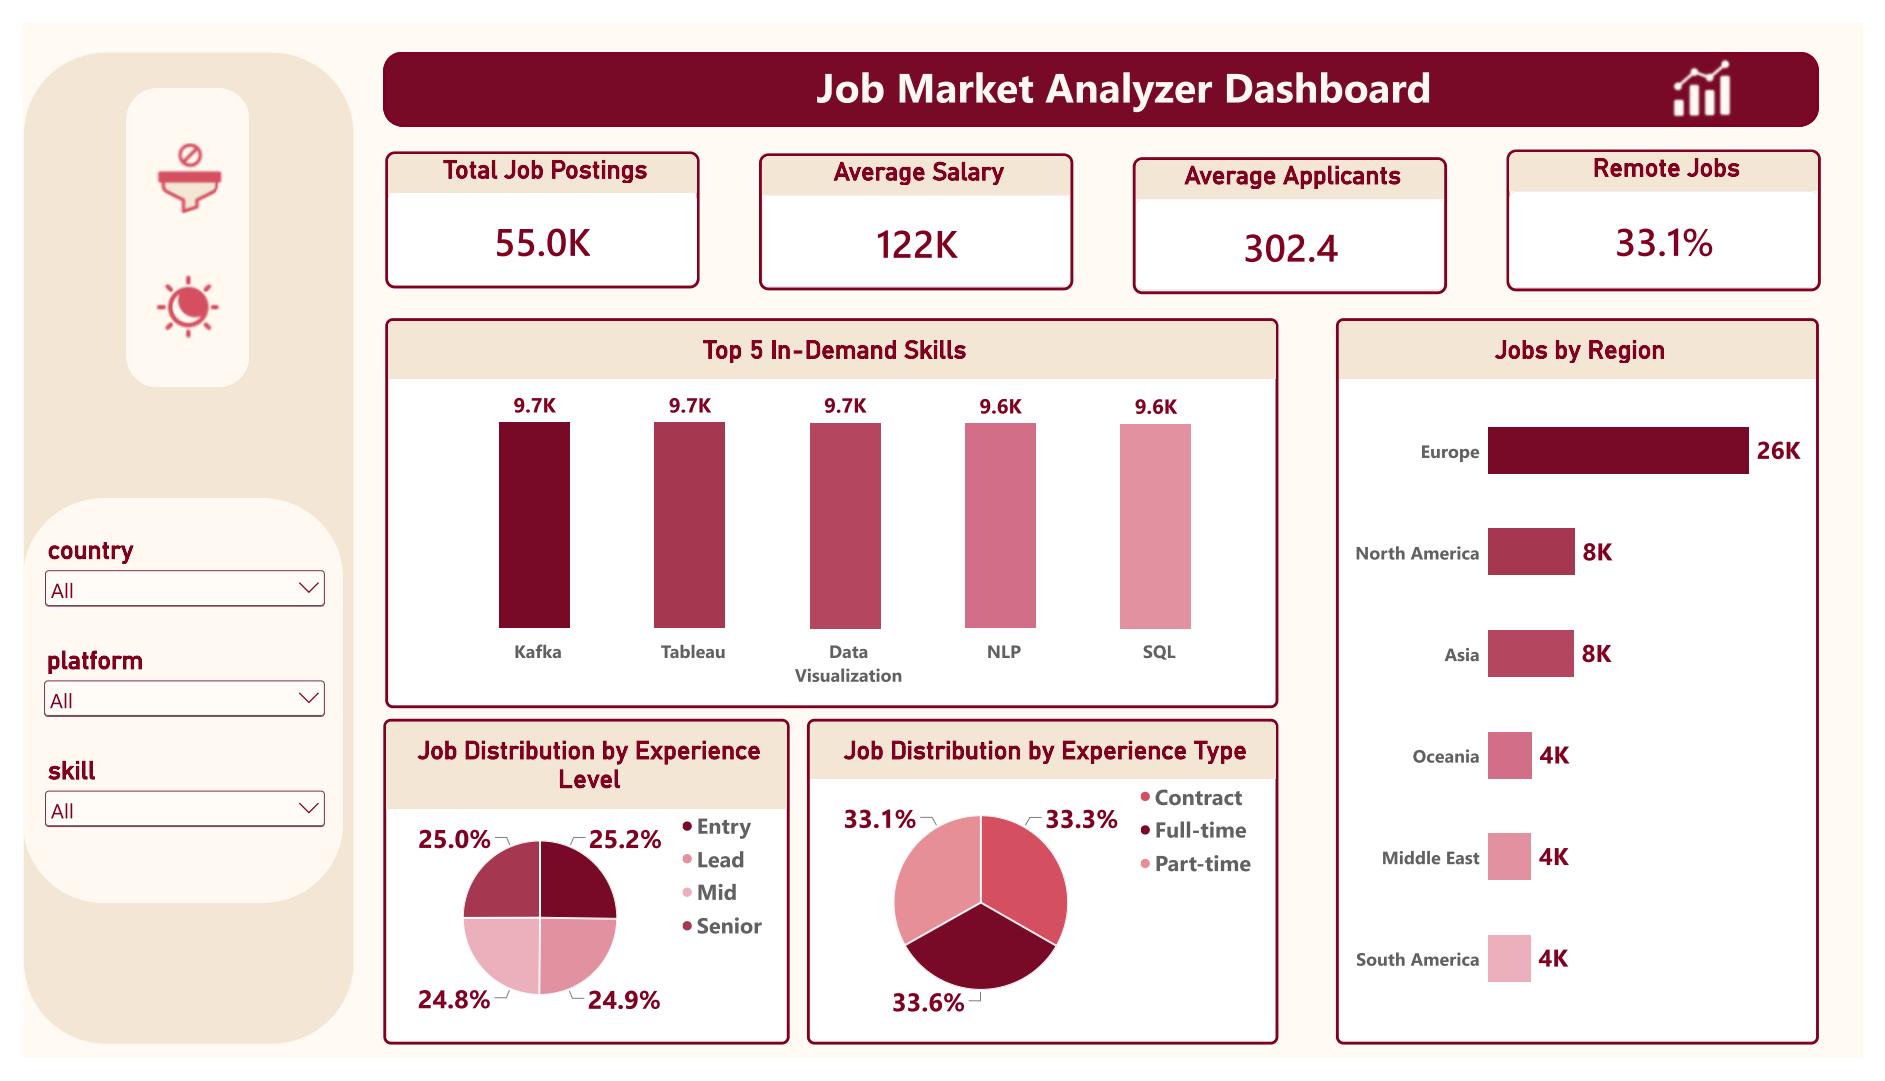

This screenshot's page, from the dashboard's own definition file:
{"tool":"powerbi","page":{"name":"LightMode","canvas":[1920,1080],"ordinal":1},"visuals":[{"type":"shape","box":[0,30,346,1036],"z":0,"group":"g4"},{"type":"shape","box":[376,30,1498.4,77.8],"z":0,"group":"g3"},{"type":"shape","box":[108,68,128,312],"z":0,"group":"g2"},{"type":"shape","box":[0,496,333.7,421.9],"z":0,"group":"g1"},{"type":"actionButton","box":[798.9,31.4,700.3,63.3],"z":1000,"group":"g3"},{"type":"group","id":"g1","title":"Group 1","box":[0,496,333.7,421.9],"z":1000,"group":"g4"},{"type":"slicer","fields":{"Values":["dim_country.country"]},"box":[18,534,302.2,99.4],"z":1000,"group":"g1"},{"type":"actionButton","box":[1711.6,33.2,80,72.5],"z":2000,"group":"g3"},{"type":"group","id":"g2","title":"Group 2","box":[108,68,128,312],"z":2000,"group":"g4"},{"type":"cardVisual","title":"Total Job Postings","fields":{"Data":["Count(bridge_job_skills 1(in) (1).job_id)"]},"box":[378,134,327.5,143],"z":2000},{"type":"slicer","fields":{"Values":["dim_platform.platform"]},"box":[17.5,649,302.2,99.4],"z":2000,"group":"g1"},{"type":"actionButton","title":"dark_mode","box":[108,252,128,88],"z":3000,"group":"g4"},{"type":"slicer","fields":{"Values":["dim_country.country"]},"box":[566,540,302.2,99.4],"z":3000},{"type":"slicer","fields":{"Values":["dim_skill.skill"]},"box":[18,764,302.2,99.4],"z":3000,"group":"g1"},{"type":"cardVisual","title":"Average Applicants","fields":{"Data":["Avg(fact_job_postings.applicants_estimate)"]},"box":[1158,139.9,327.5,143],"z":4000},{"type":"cardVisual","title":"Average Salary","fields":{"Data":["Avg(fact_job_postings 1(in) (5).average_salary_usd)"]},"box":[768,136.3,327.5,143],"z":5000},{"type":"cardVisual","title":"Remote Jobs","fields":{"Data":["bridge_job_skills 1(in) (1).% Remote Jobs"]},"box":[1548,132,327.5,148.4],"z":6000},{"type":"group","id":"g3","title":"Group 4","box":[376,30,1498.4,77.8],"z":7000},{"type":"barChart","title":"Jobs by Region","fields":{"Category":["dim_country(in).region"],"Y":["CountNonNull(fact_job_postings 1(in) (5).job_id)"]},"box":[1370,308,504,758],"z":8000},{"type":"pieChart","title":"Job Distribution by Experience Level","fields":{"Category":["fact_job_postings.experience_level"],"Y":["Count(fact_job_postings 1(in) (5).job_id)"]},"box":[376,726,424,340],"z":9000},{"type":"clusteredColumnChart","title":"Top 5 In-Demand Skills","fields":{"Category":["dim_skill.skill"],"Y":["CountNonNull(bridge_job_skills.skill_id )"]},"box":[378.2,307.6,932,407.2],"z":10000},{"type":"pieChart","title":"Job Distribution by Experience Type","fields":{"Category":["fact_job_postings.employment_type"],"Y":["Count(fact_job_postings 1(in) (5).job_id)"]},"box":[818,726,492,340],"z":11000},{"type":"group","id":"g4","title":"Group 3","box":[0,30,346,1036],"z":12000},{"type":"actionButton","title":"unfilter_light","box":[110,118,128,88],"z":13000}]}

Visuals, with their boxes in screenshot pixels (x1, y1, x2, y2), scaled from the page's 1920x1080 canvas onto the 1885x1081 screenshot:
shape: (x1=0, y1=30, x2=340, y2=1067)
shape: (x1=369, y1=30, x2=1840, y2=108)
shape: (x1=106, y1=68, x2=232, y2=380)
shape: (x1=0, y1=496, x2=328, y2=919)
actionButton: (x1=784, y1=31, x2=1472, y2=95)
"Group 1" group: (x1=0, y1=496, x2=328, y2=919)
slicer - dim_country.country: (x1=18, y1=534, x2=314, y2=634)
actionButton: (x1=1680, y1=33, x2=1759, y2=106)
"Group 2" group: (x1=106, y1=68, x2=232, y2=380)
"Total Job Postings" cardVisual: (x1=371, y1=134, x2=693, y2=277)
slicer - dim_platform.platform: (x1=17, y1=650, x2=314, y2=749)
"dark_mode" actionButton: (x1=106, y1=252, x2=232, y2=340)
slicer - dim_country.country: (x1=556, y1=540, x2=852, y2=640)
slicer - dim_skill.skill: (x1=18, y1=765, x2=314, y2=864)
"Average Applicants" cardVisual: (x1=1137, y1=140, x2=1458, y2=283)
"Average Salary" cardVisual: (x1=754, y1=136, x2=1076, y2=280)
"Remote Jobs" cardVisual: (x1=1520, y1=132, x2=1841, y2=281)
"Group 4" group: (x1=369, y1=30, x2=1840, y2=108)
"Jobs by Region" barChart: (x1=1345, y1=308, x2=1840, y2=1067)
"Job Distribution by Experience Level" pieChart: (x1=369, y1=727, x2=785, y2=1067)
"Top 5 In-Demand Skills" clusteredColumnChart: (x1=371, y1=308, x2=1286, y2=715)
"Job Distribution by Experience Type" pieChart: (x1=803, y1=727, x2=1286, y2=1067)
"Group 3" group: (x1=0, y1=30, x2=340, y2=1067)
"unfilter_light" actionButton: (x1=108, y1=118, x2=234, y2=206)
